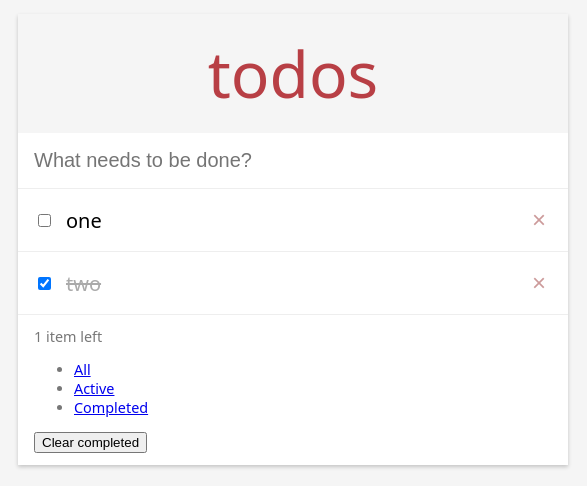
Clear completed shown only when completed exist and removes them
Click the button "Clear completed": [90, 442] box x1=34 y1=432 x2=147 y2=453
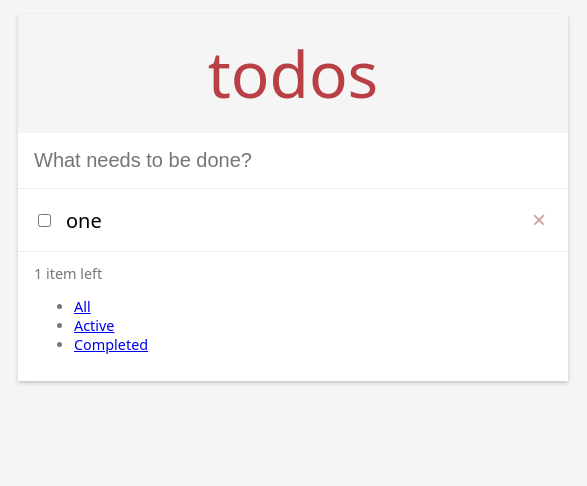
Check: the text "one" is shown, box x1=66 y1=206 x2=102 y2=234
Check: the text "two" is gone
Check: the button "Clear completed" is gone
